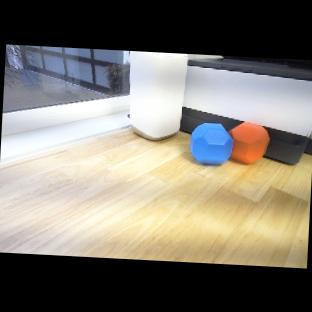V5_BLUE: (187, 120, 234, 172)
V5_RED: (232, 121, 270, 164)
pieces: (182, 112, 274, 178)
